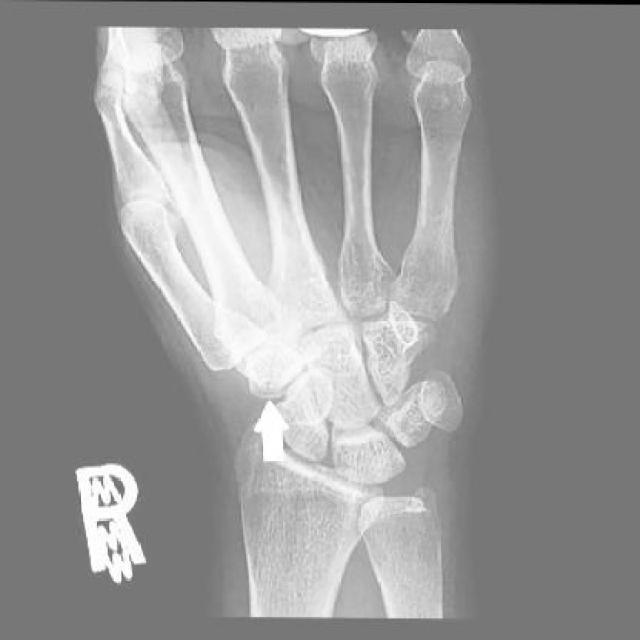Fracture: (245, 338, 296, 388)
